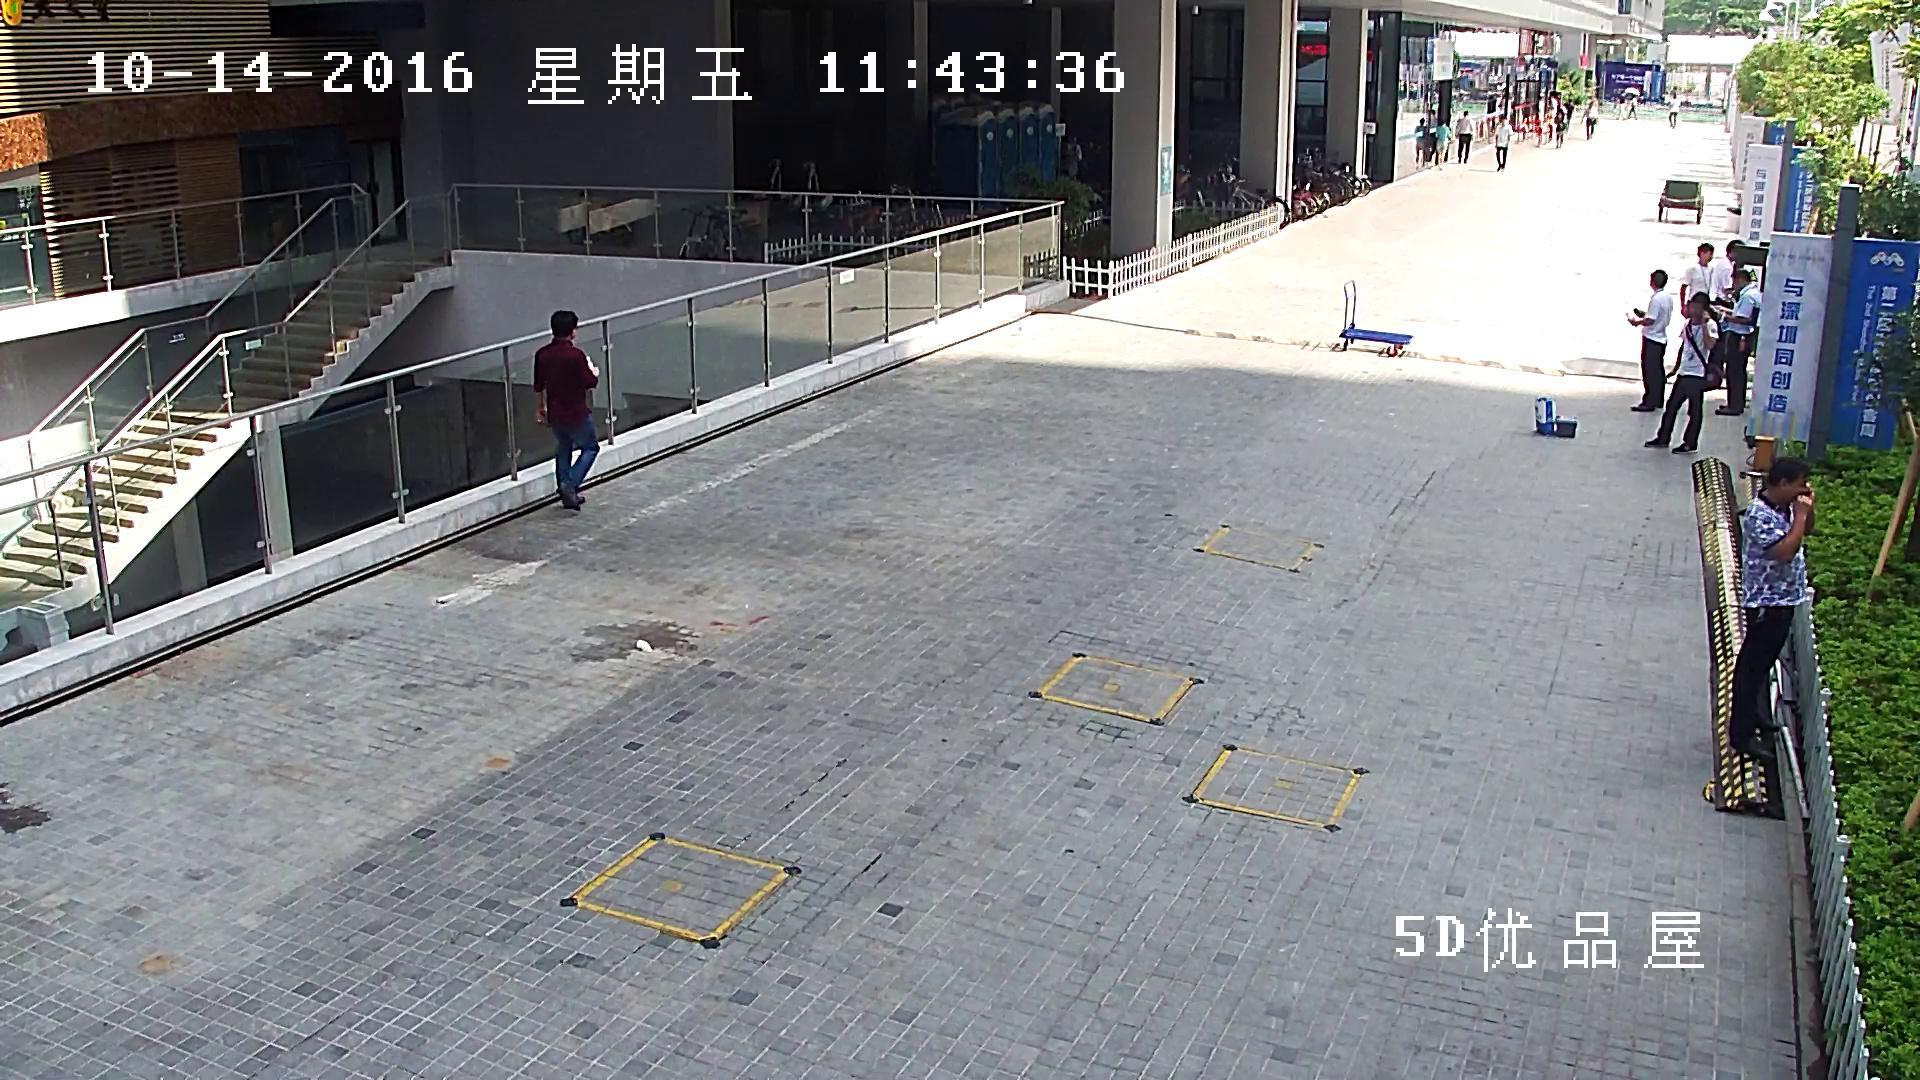person: (1729, 457, 1813, 760), (534, 310, 599, 510), (1644, 292, 1722, 454), (1714, 268, 1760, 415), (1625, 270, 1672, 410), (1707, 239, 1745, 387), (1680, 243, 1714, 318), (1454, 110, 1473, 163), (1495, 115, 1512, 170), (1435, 121, 1452, 170), (1063, 134, 1082, 177), (1580, 103, 1597, 140), (1414, 117, 1425, 166), (1553, 109, 1567, 148), (1615, 89, 1626, 120), (1564, 99, 1574, 127), (1669, 95, 1678, 129), (1626, 93, 1637, 119), (1545, 106, 1553, 138)
